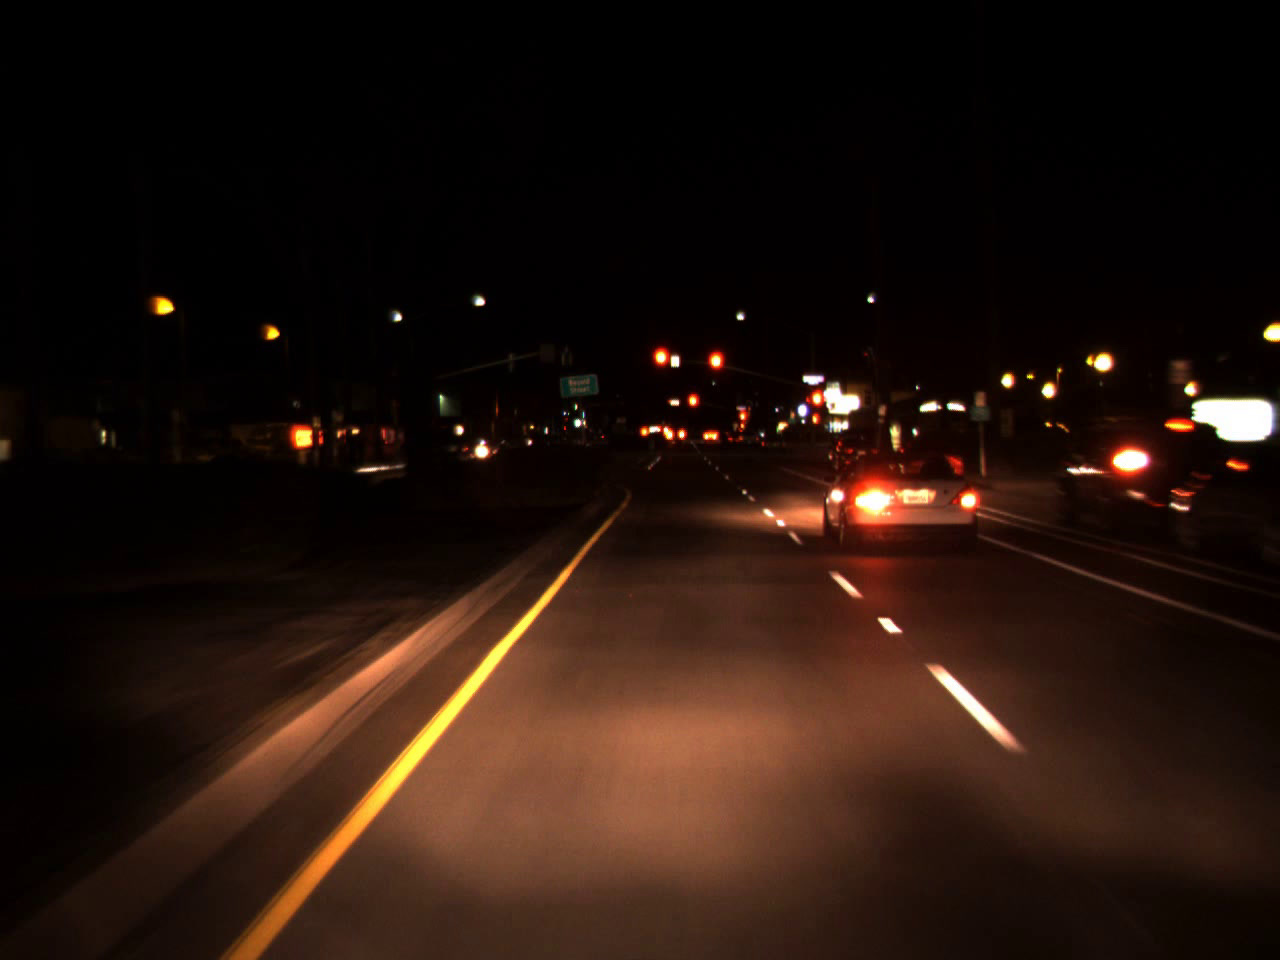stop: (650, 343, 672, 388), (807, 386, 829, 429), (705, 348, 726, 391), (738, 406, 750, 449), (686, 392, 699, 421)
